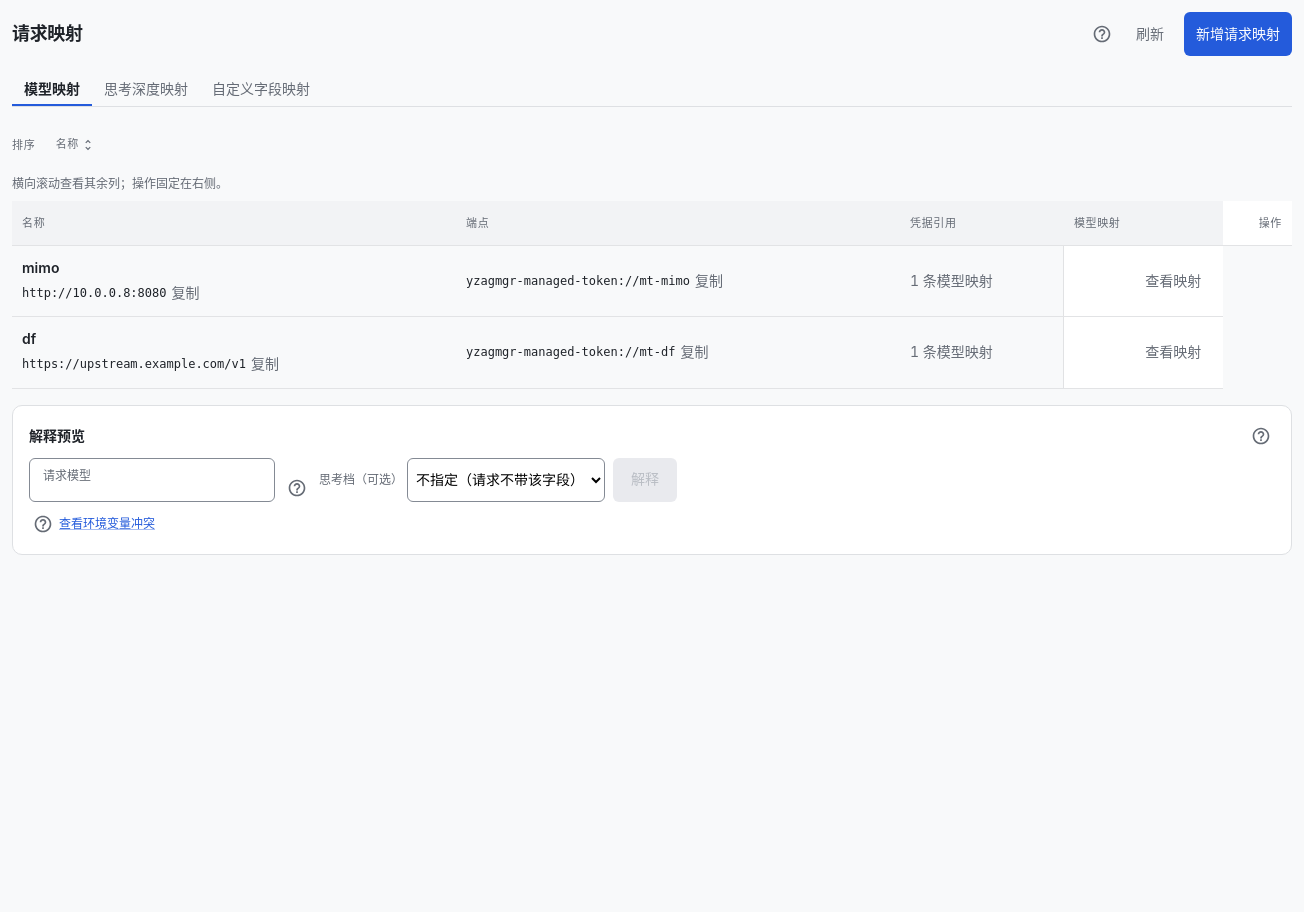
Test: RouterPage（UC-023 / UC-028 / UC-029 / UC-036） › 切换子区写 URL（tab → ?view=effort），思考深度映射条目与 force 在各自视图呈现
Click the button "查看映射" in the row of "http://10.0.0.8:8080" at (1173, 281), box [1133,259,1213,303]
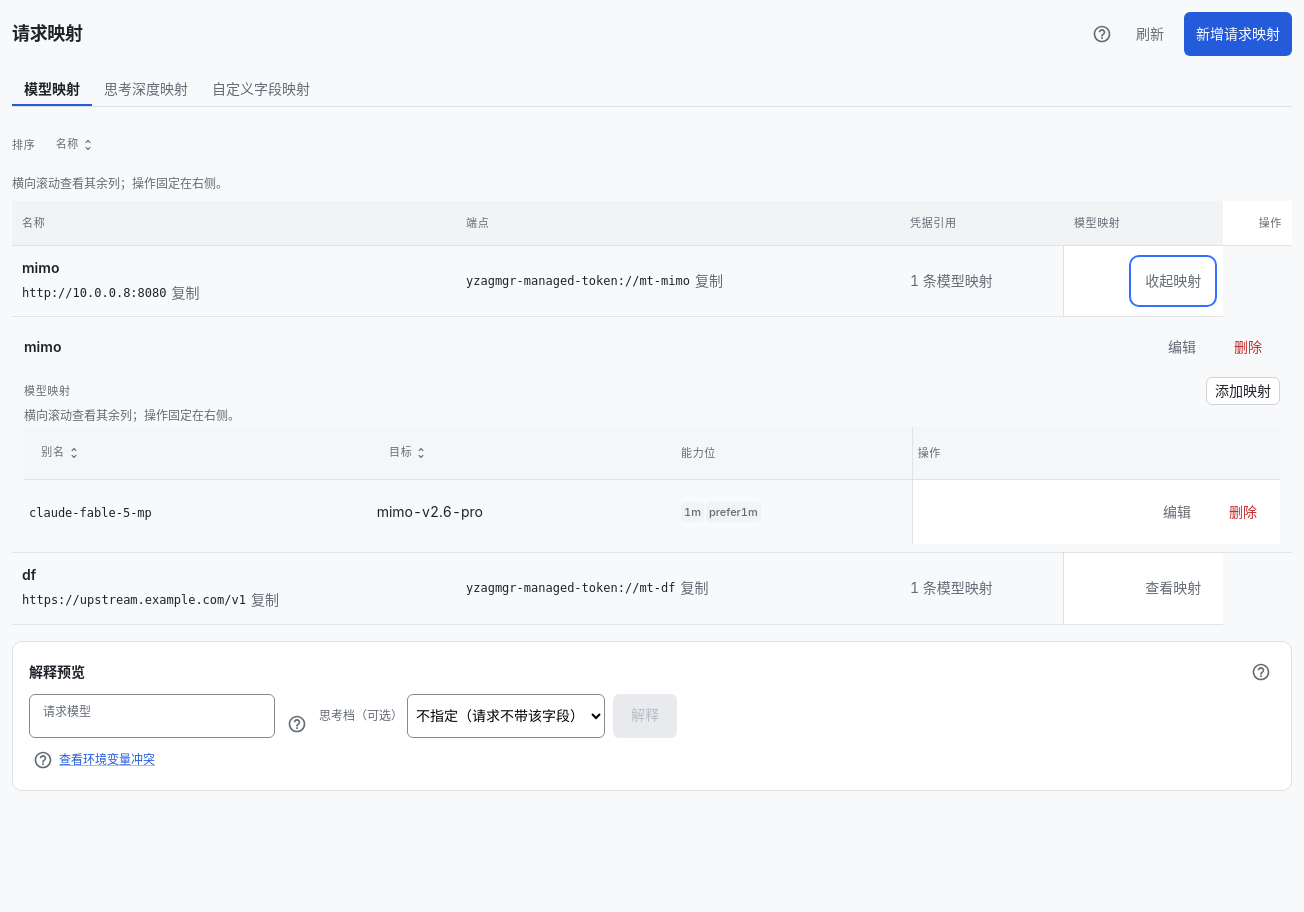
Click the tab "思考深度映射" at (146, 89), box [92,72,200,106]
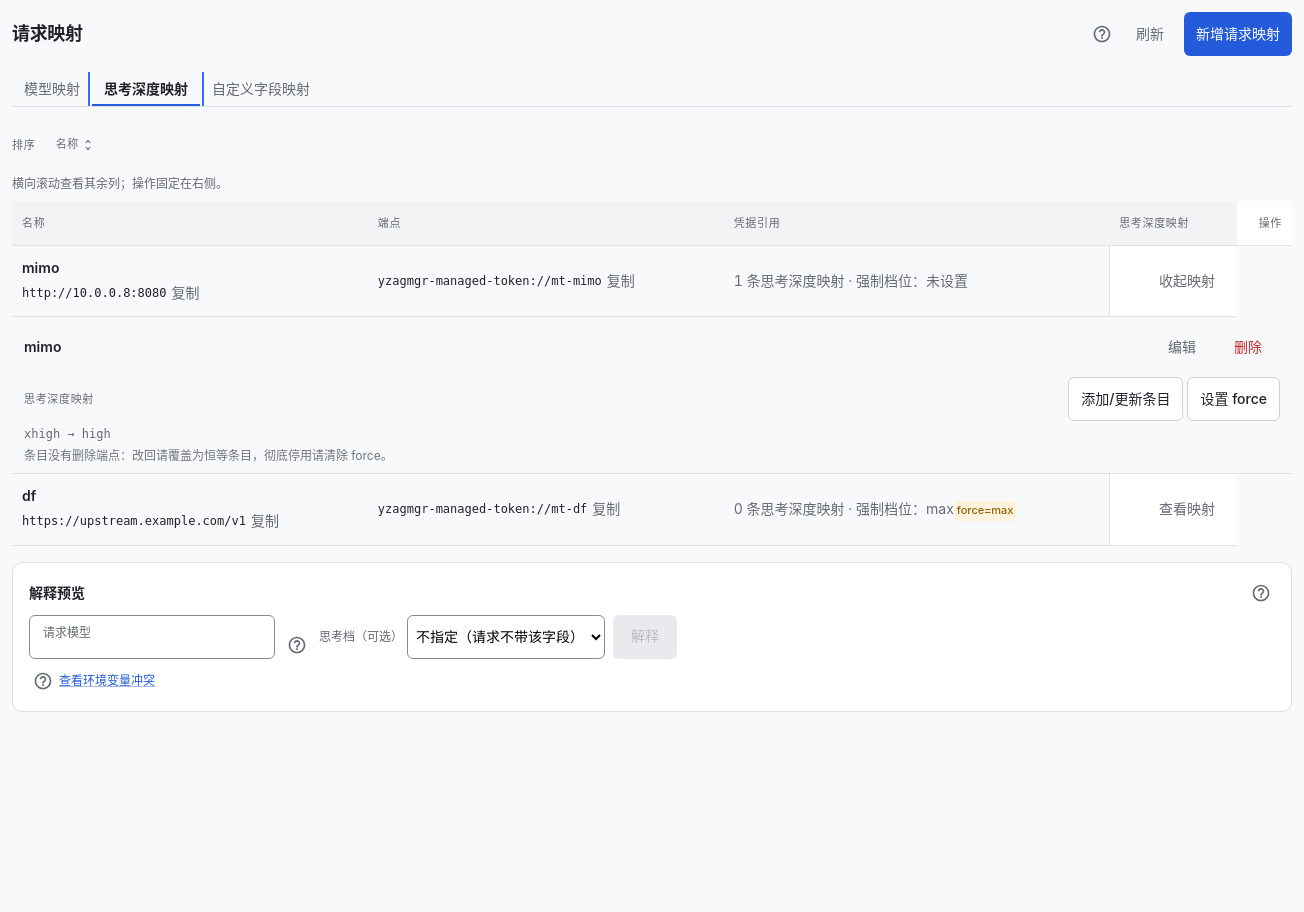
Now the text "xhigh → high" is shown, box [24,423,111,445]
Now the text "force=max" is shown, box [954,500,1016,520]
Now the text "claude-fable-5-mp" is gone
Click the tab "模型映射" at (52, 89), box [12,72,92,106]
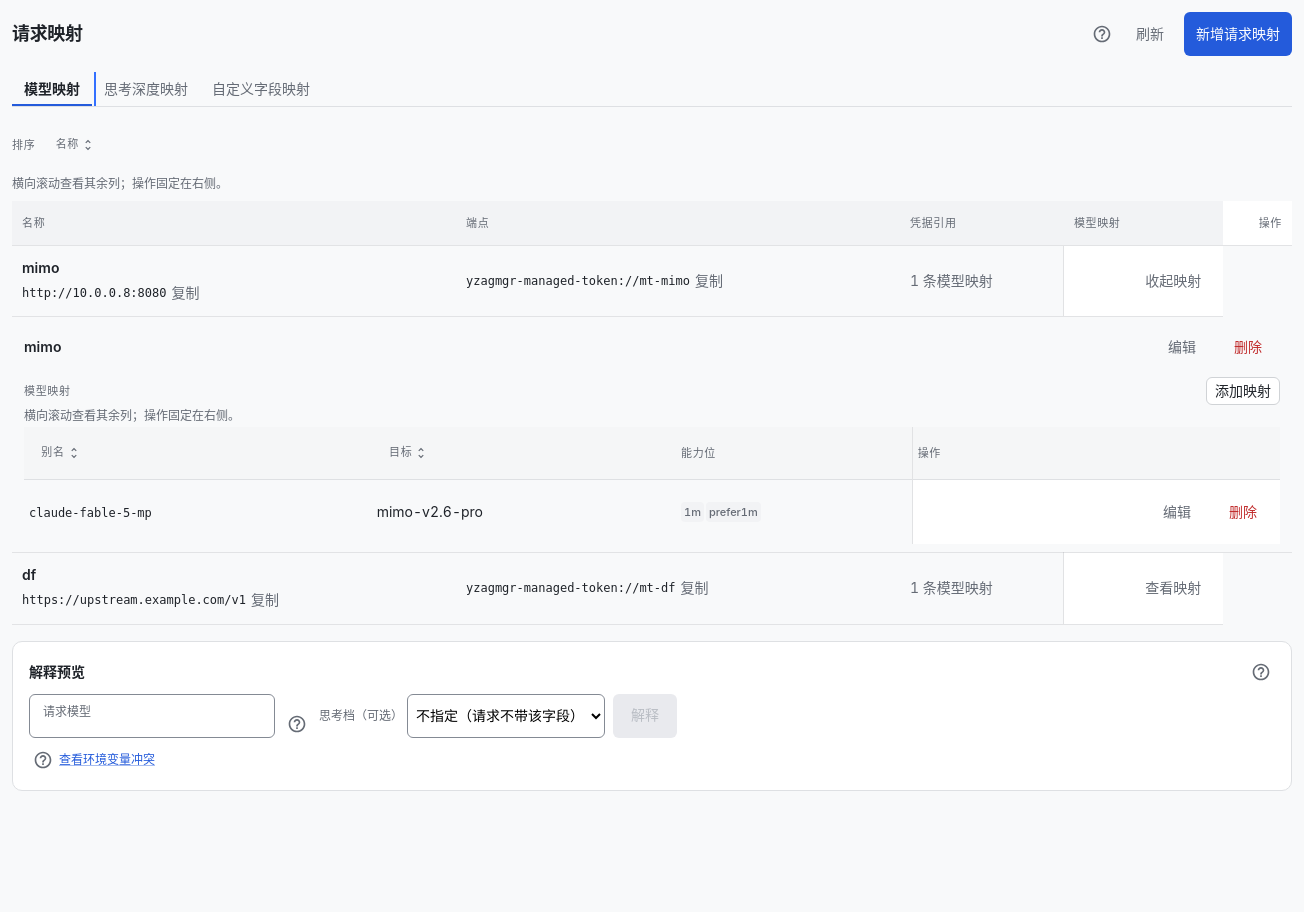
Now the text "claude-fable-5-mp" is shown, box [29,506,152,520]
